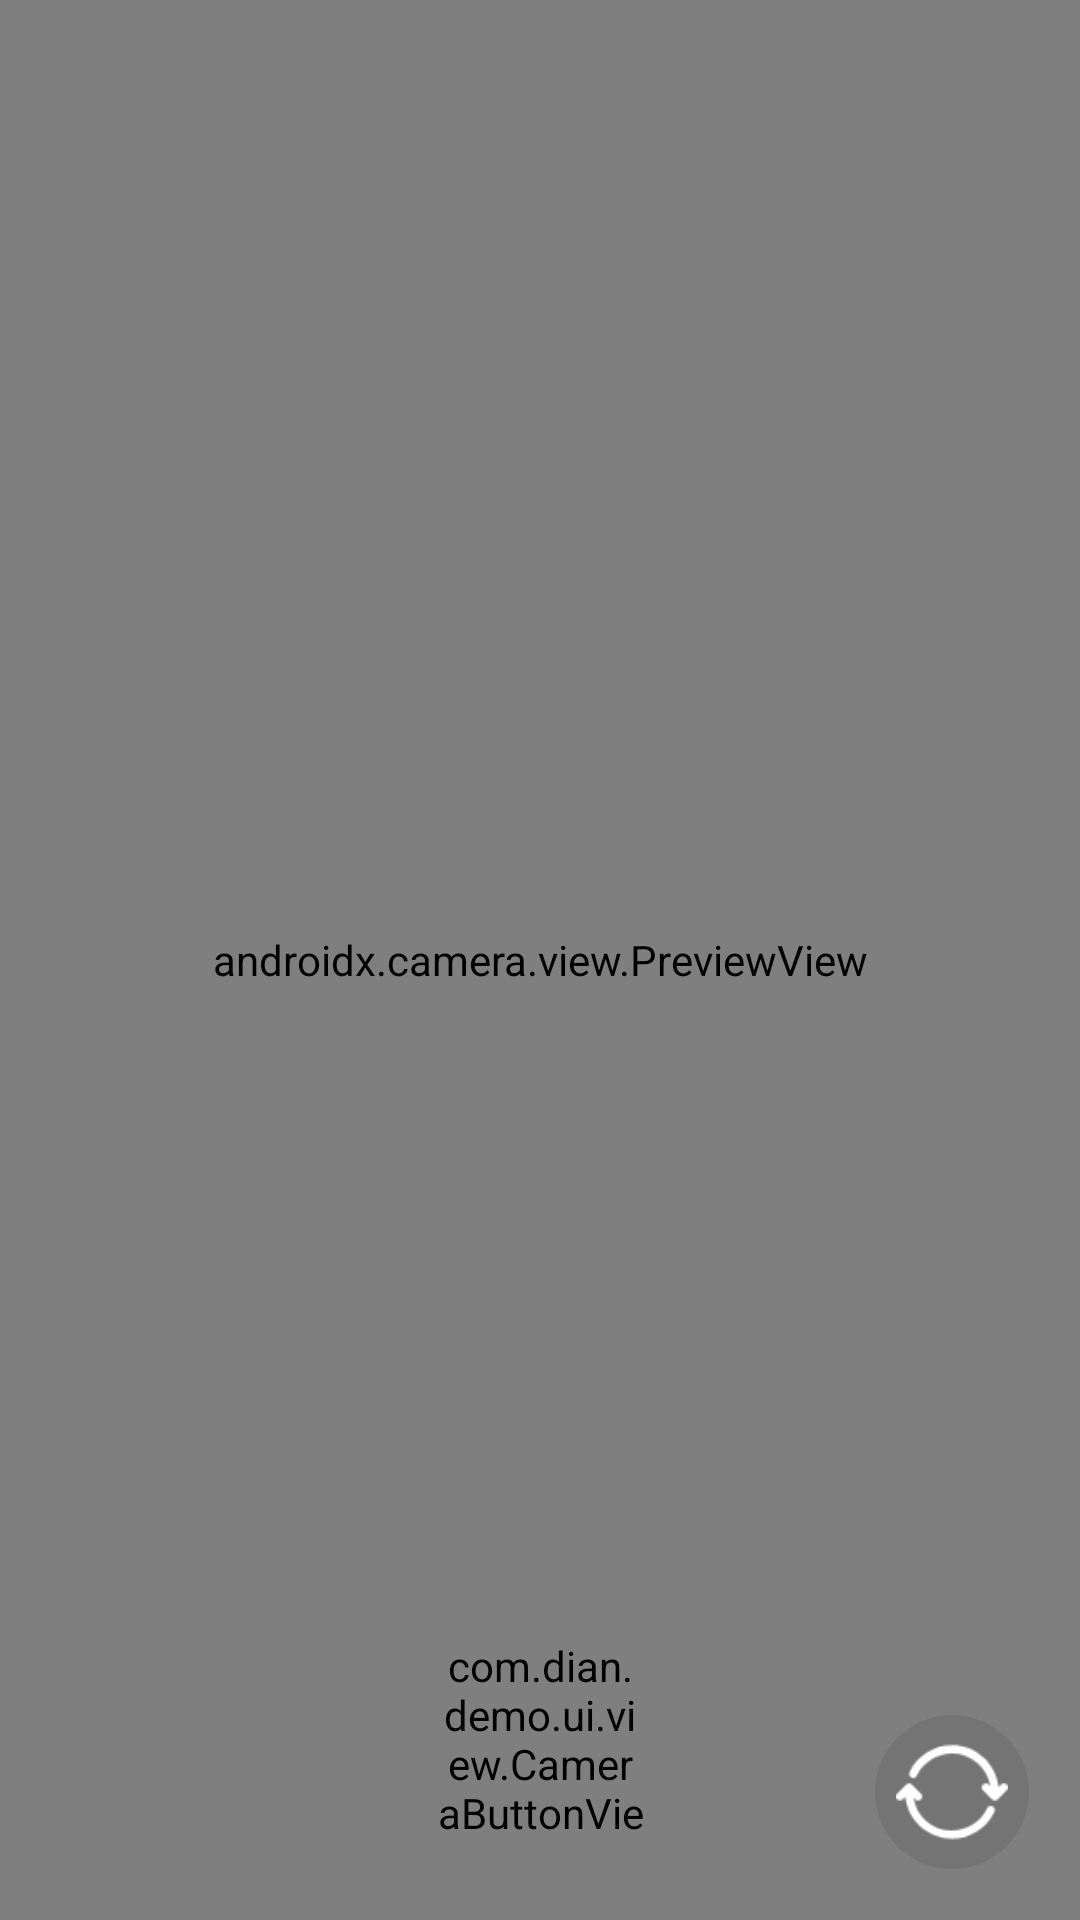

Where to tap for icons on this 1080 x 1920 app screen, as point (x, y):
flip: point (952, 1792)
